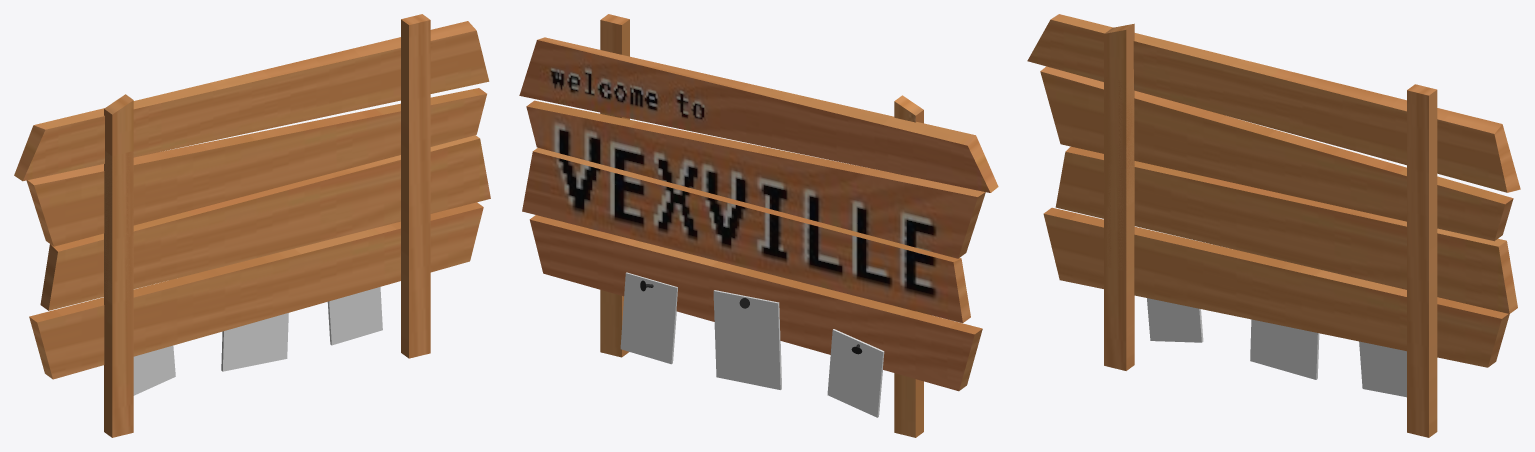
The model's file is sign.fbx.
3 views of the same model, side by side, from view 1: azimuth 30°, elevation 25°; view 2: azimuth 150°, elevation 25°; view 3: azimuth 330°, elevation 25° (orthographic). The views are drawn at different scales.
Visible parts, largest first — view 1: Cube.001; view 2: Cube.001; view 3: Cube.001.
Part boxes in pixels (x1,y1,x2,y2): Cube.001: [14, 14, 490, 437]; Cube.001: [519, 14, 998, 437]; Cube.001: [1027, 14, 1520, 437].
Bounding box in the file's own units: 2210 × 1528 × 191.
3 materials, 1 textured.
